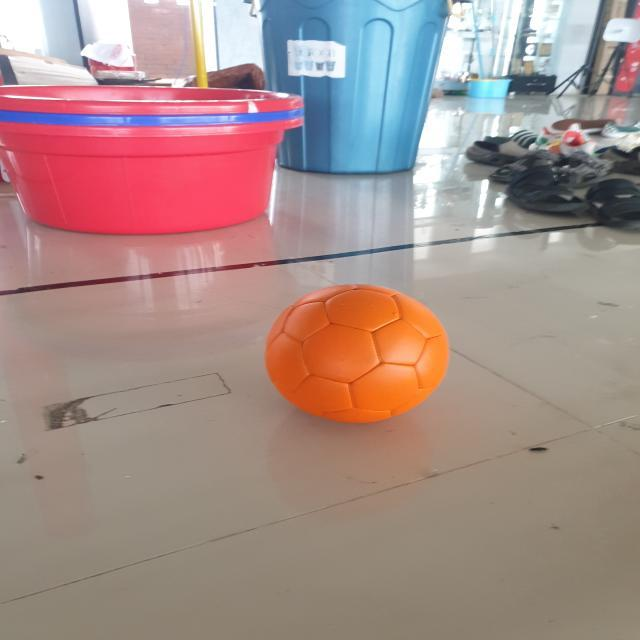bola: (245, 268, 470, 426)
